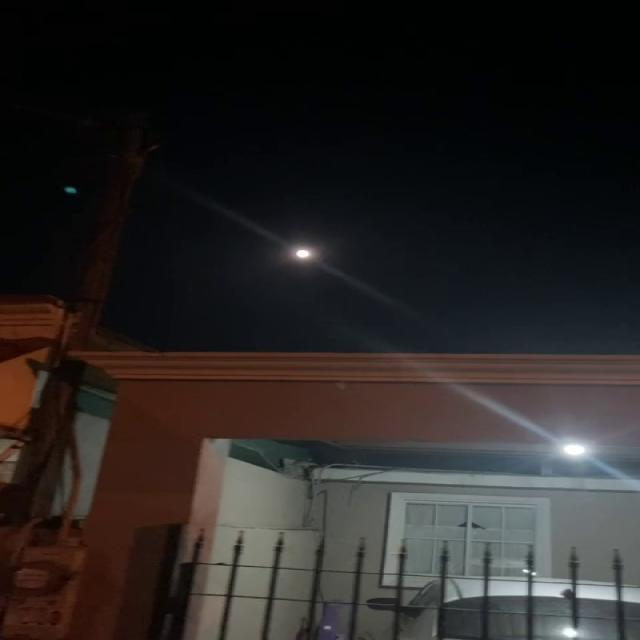moon: (291, 243, 319, 262)
